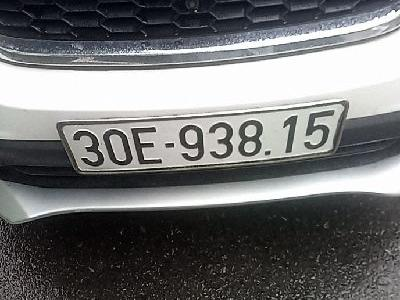car: (55, 98, 350, 177)
